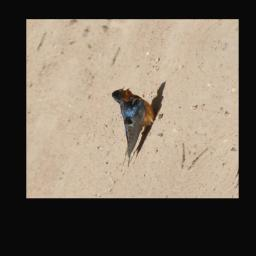Swallow: (83, 85, 164, 168)
